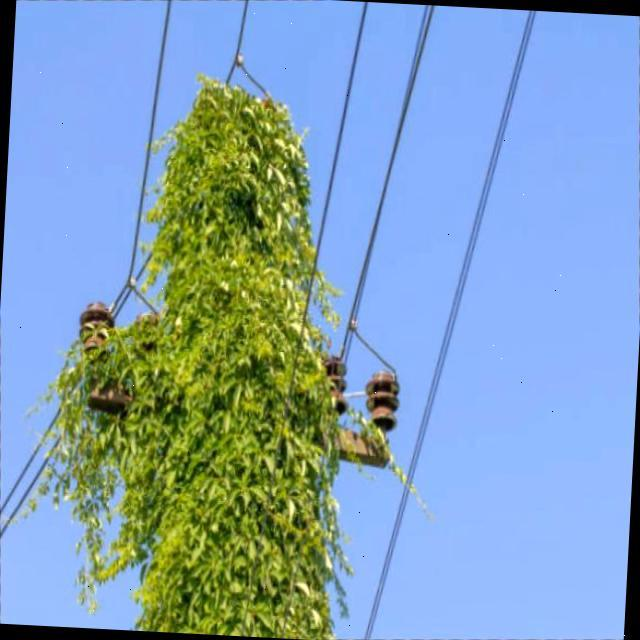critical vegetation: (96, 95, 362, 638)
